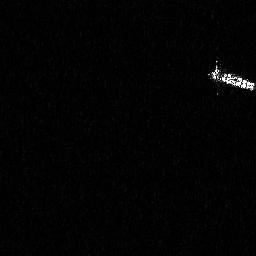ship: (207, 58, 256, 98)
